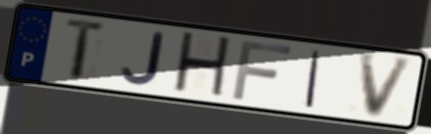F: (229, 39, 295, 103)
H: (169, 29, 234, 103)
I: (302, 48, 324, 111)
J: (118, 31, 166, 88)
T: (63, 15, 110, 83)
V: (357, 52, 418, 120)
